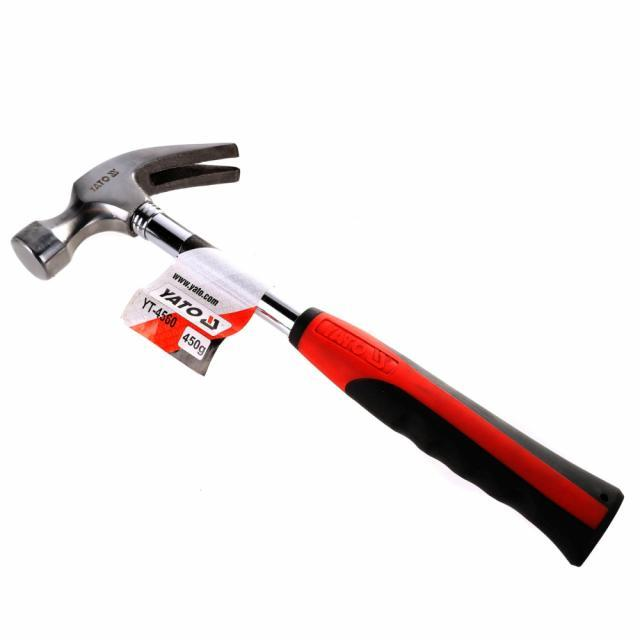hammer: (11, 138, 628, 572)
